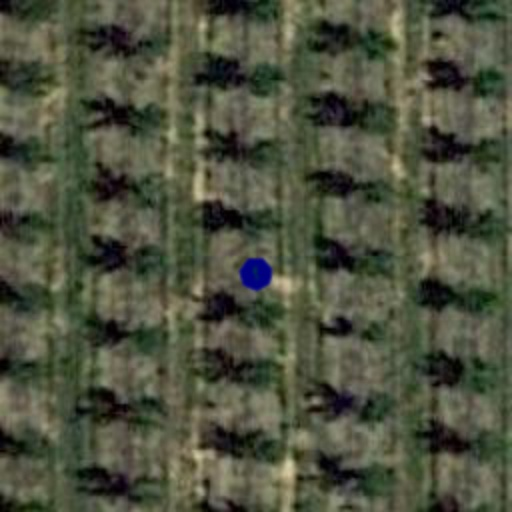heptagon: (232, 250, 280, 298)
